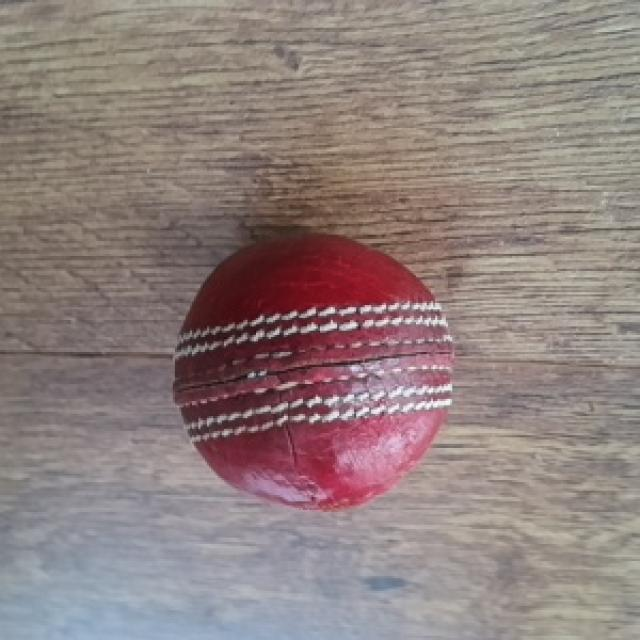ball: (172, 229, 460, 514)
